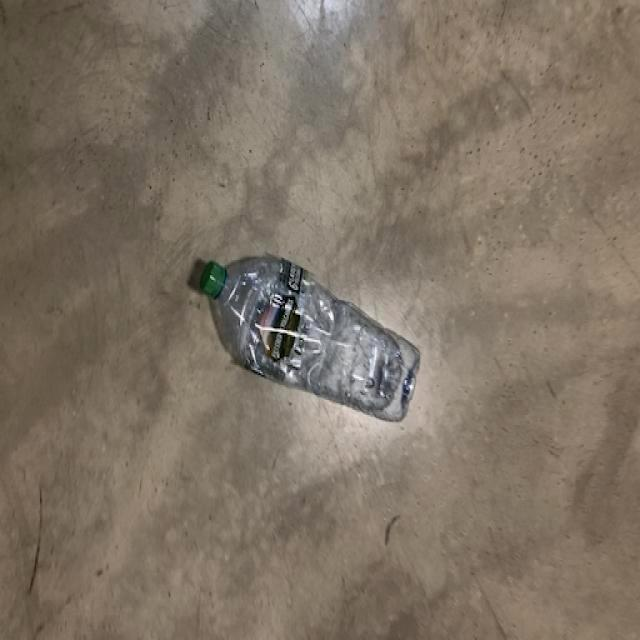bottle: (198, 257, 422, 422)
